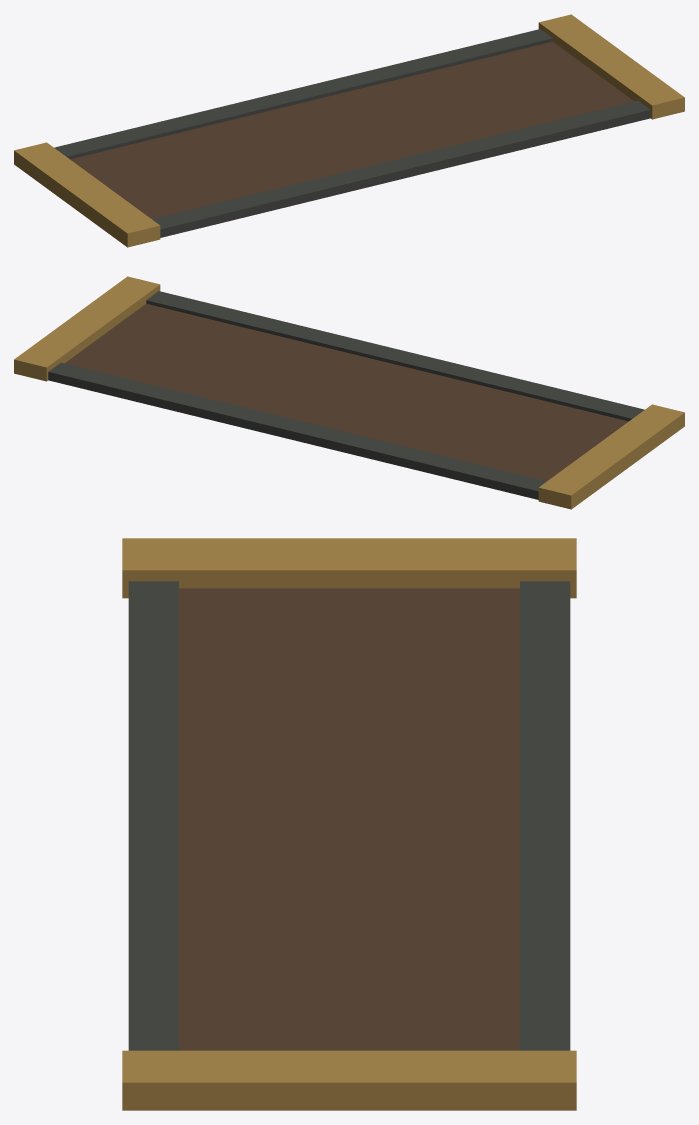
File: b2_drain.glb
3 renders of one model, top to bottom at view 1: azimuth 30°, elevation 25°; view 2: azimuth 150°, elevation 25°; view 3: azimuth 270°, elevation 25°, orthographic. The views are drawn at different scales.
Visible parts, largest first — view 1: b2_drain; view 2: b2_drain; view 3: b2_drain.
Boxes of the visible parts, x1,y1,x2,y2 form: b2_drain: (14,14,684,247); b2_drain: (14,276,684,509); b2_drain: (122,538,576,1110).
Bounding box in the file's own units: 2.04 × 0.049 × 0.72.
